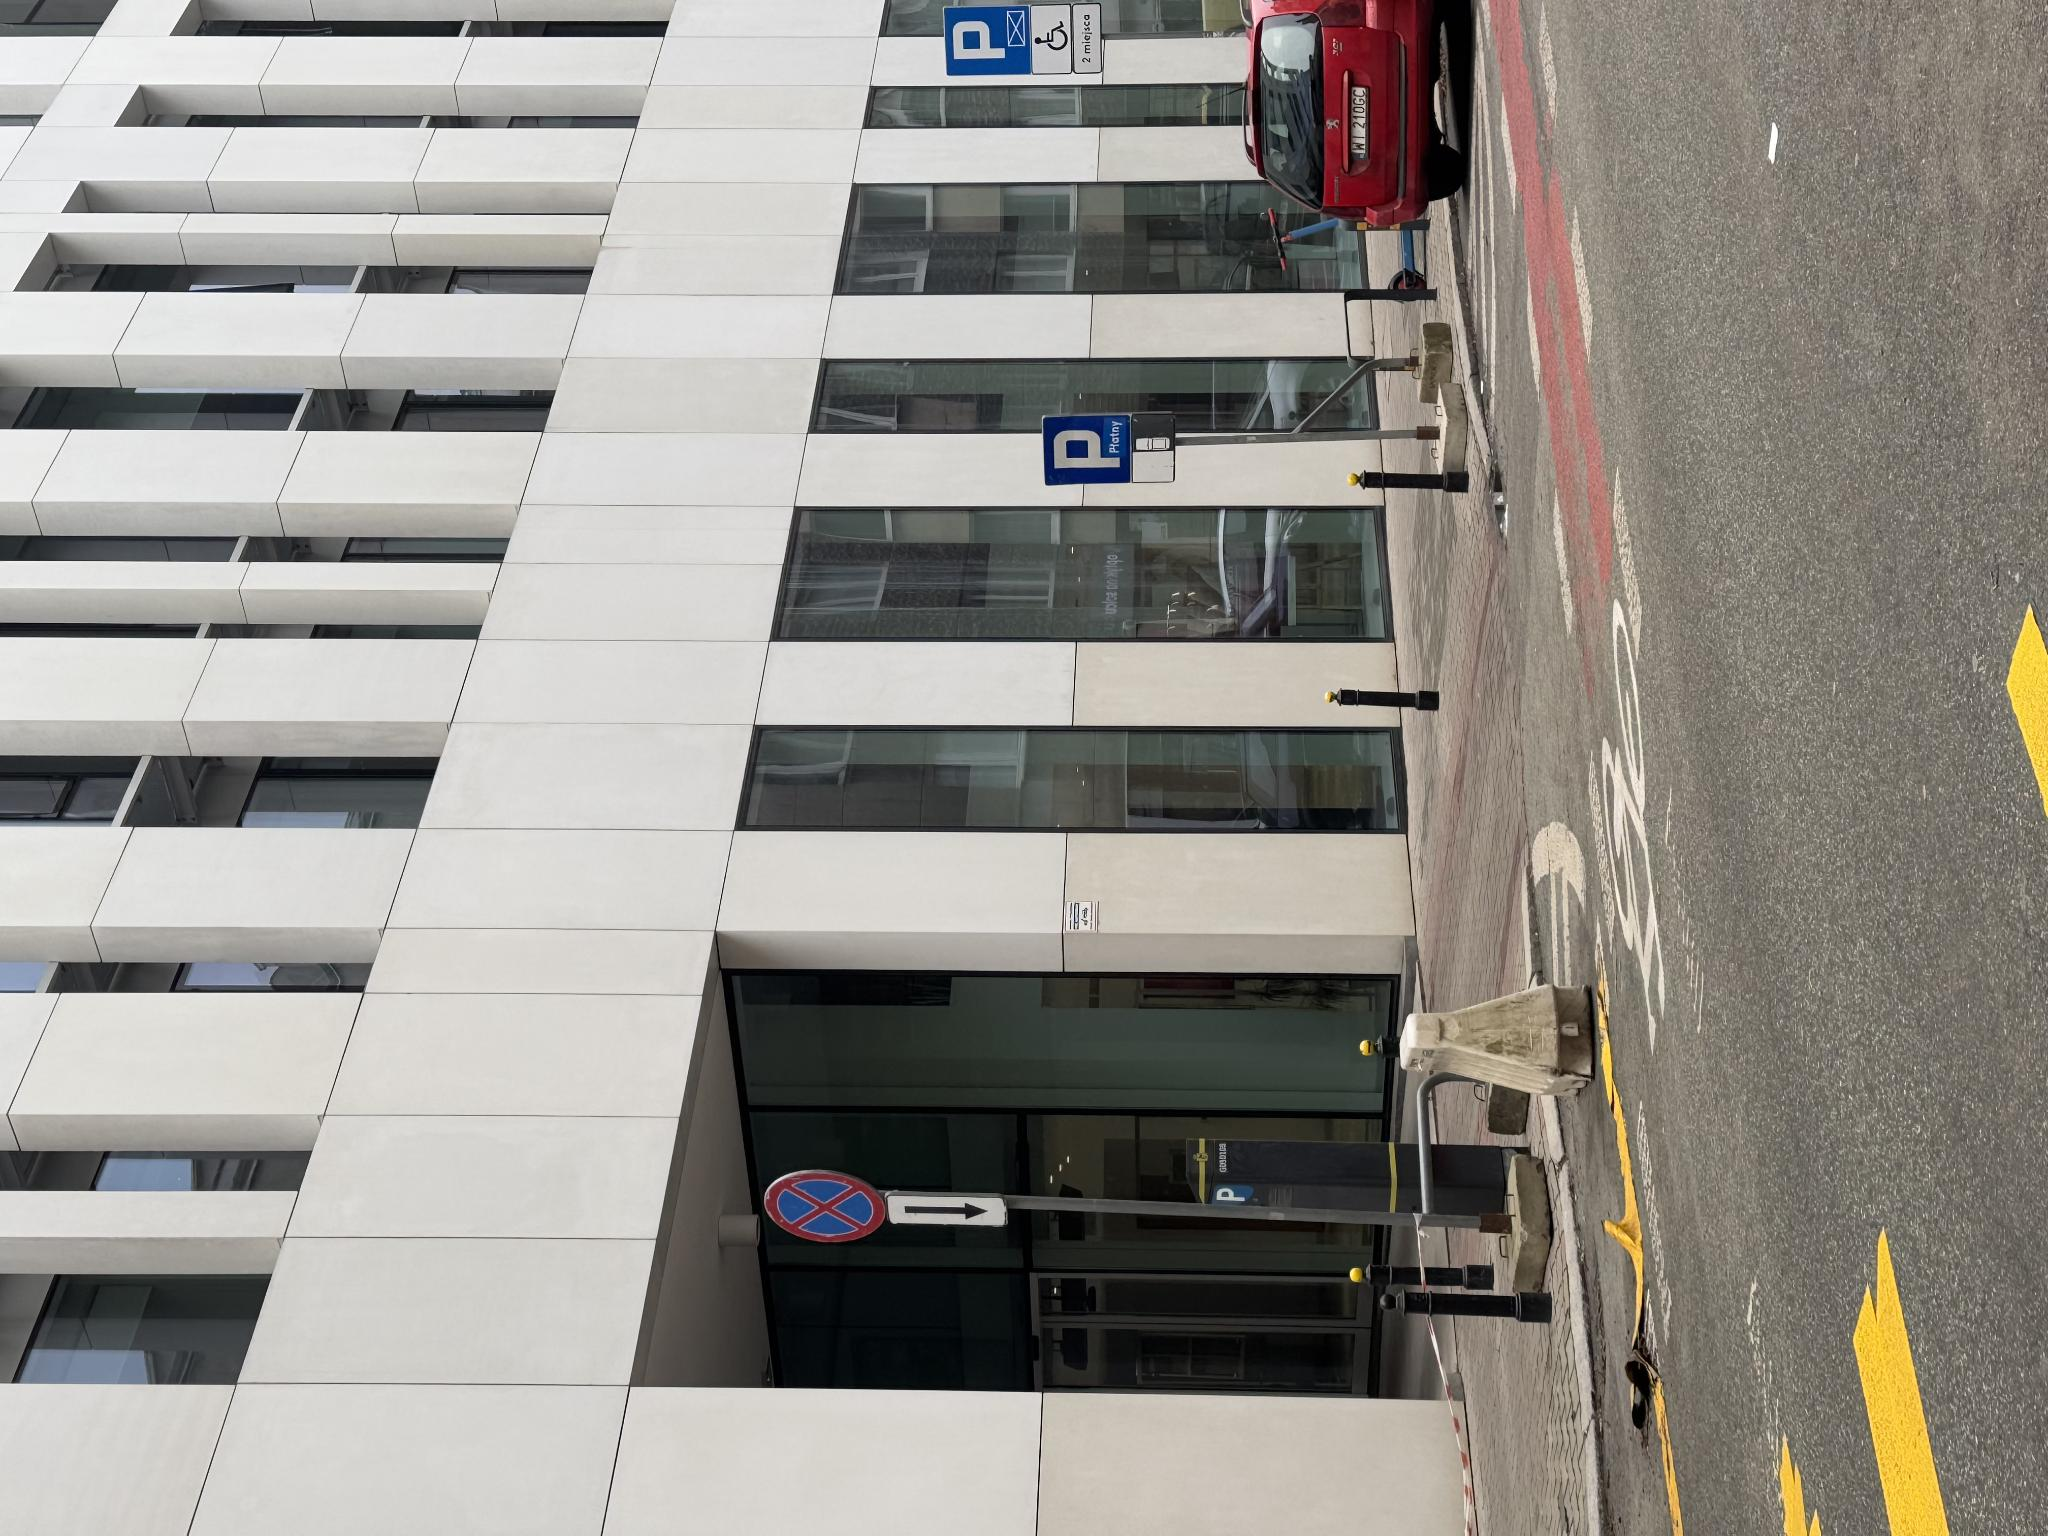information: (1050, 1042, 1126, 1129), (1459, 942, 1530, 1029)
other: (311, 887, 343, 1007), (1053, 1131, 1127, 1175), (1461, 1033, 1530, 1071), (1463, 1075, 1532, 1102)
prohibitory: (292, 763, 369, 886)
